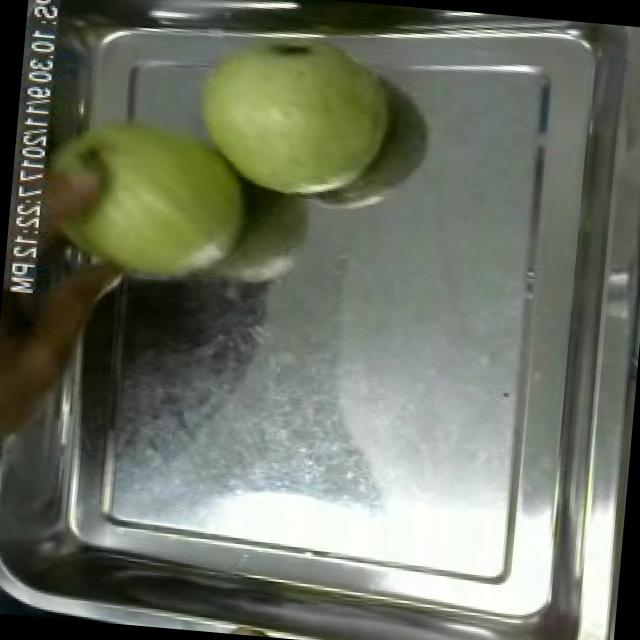Fruit: (5, 85, 269, 302), (171, 7, 408, 218)
